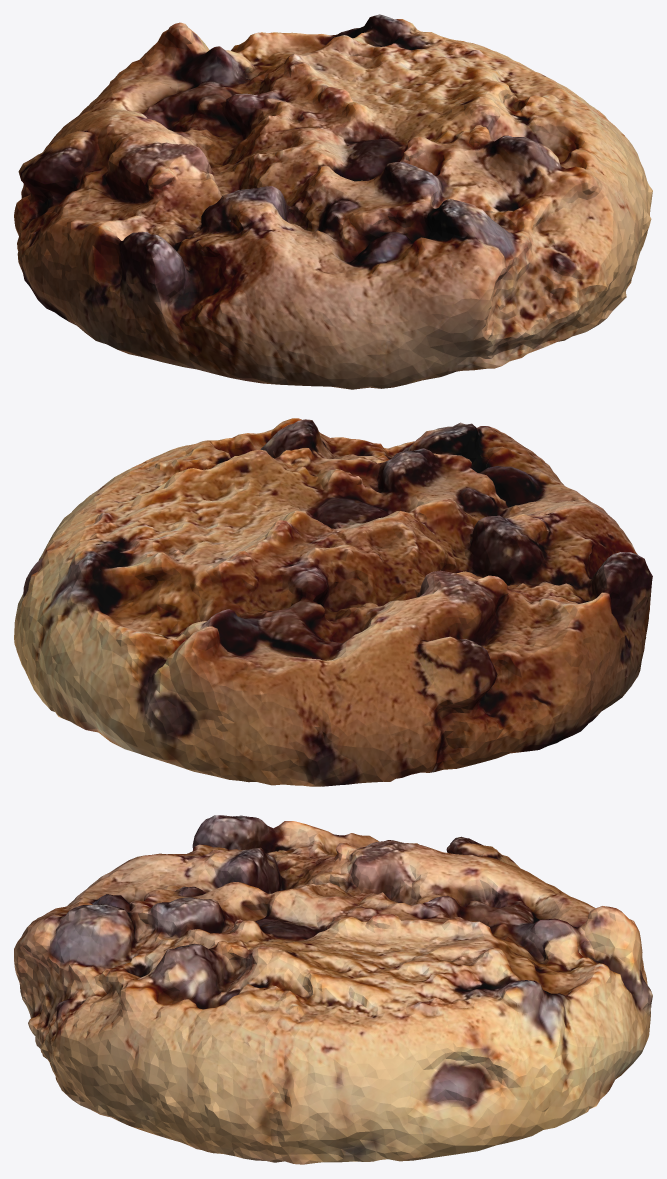
Rendered from Cookie.glb.
3 renders of one model, top to bottom at view 1: azimuth 30°, elevation 25°; view 2: azimuth 150°, elevation 25°; view 3: azimuth 270°, elevation 25°, orthographic. The views are drawn at different scales.
Size of the model in its own units: 0.0638 by 0.0165 by 0.0662.
1 material, 1 textured.
